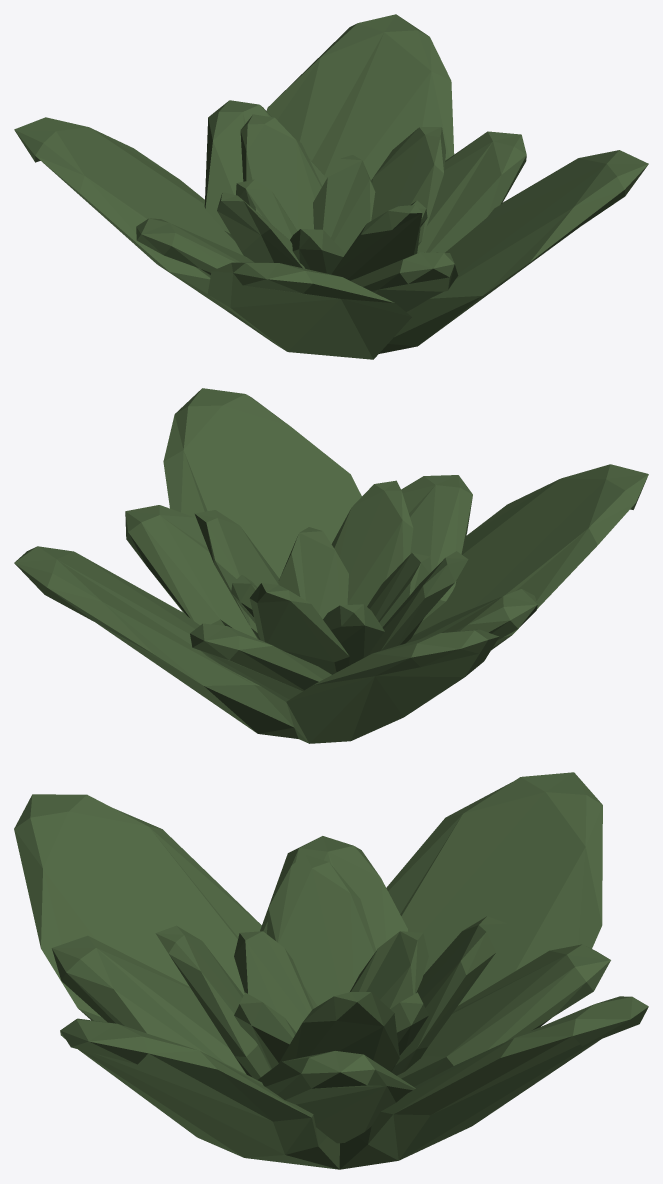
Rendered from q-cactus-flower.lod.glb.
3 renders of one model, top to bottom at view 1: azimuth 30°, elevation 25°; view 2: azimuth 150°, elevation 25°; view 3: azimuth 270°, elevation 25°, orthographic. The views are drawn at different scales.
Size of the model in its own units: 0.8819 by 0.3438 by 0.8683.
